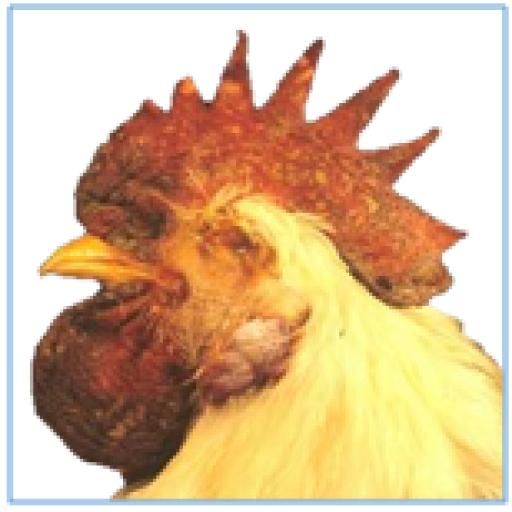disease: (10, 321, 186, 478), (176, 180, 306, 290), (46, 144, 176, 236)
